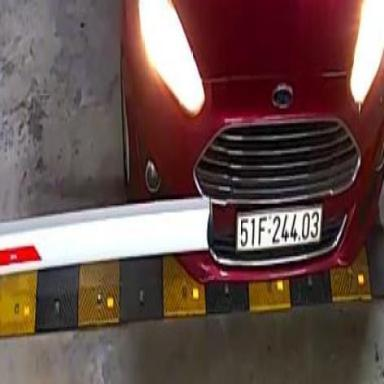License_Plate: (234, 205, 325, 250)
